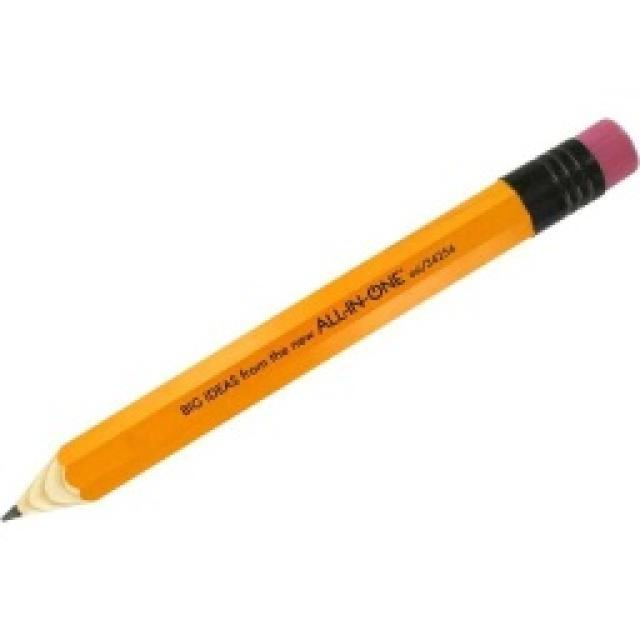pencil: (0, 110, 638, 528)
